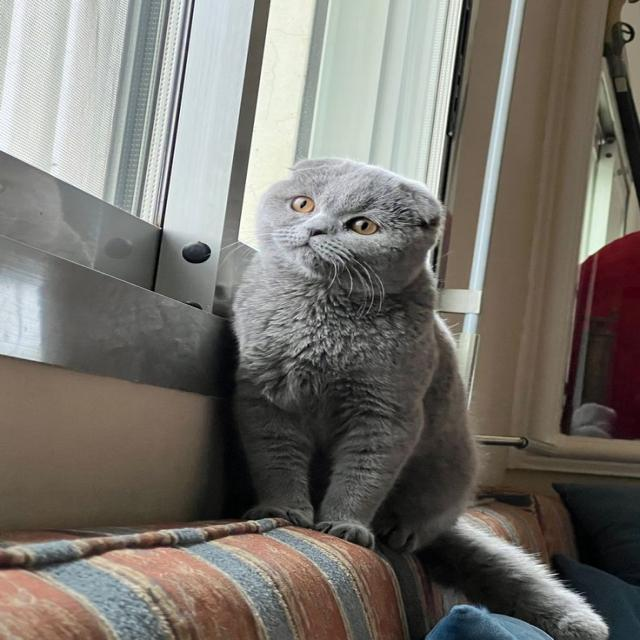british shorthair: (233, 158, 607, 639)
